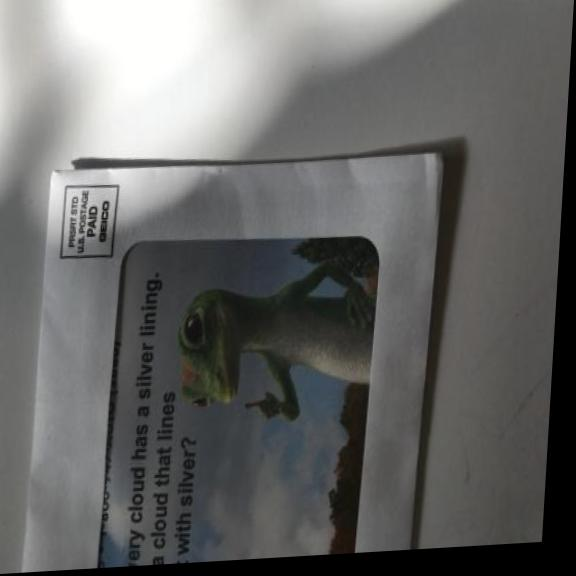Kertas: (6, 129, 452, 574)
